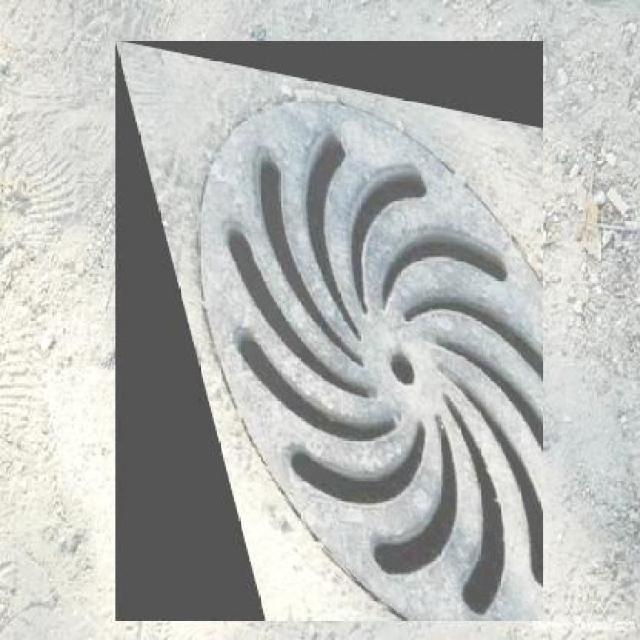Manhole: (115, 40, 543, 620)
